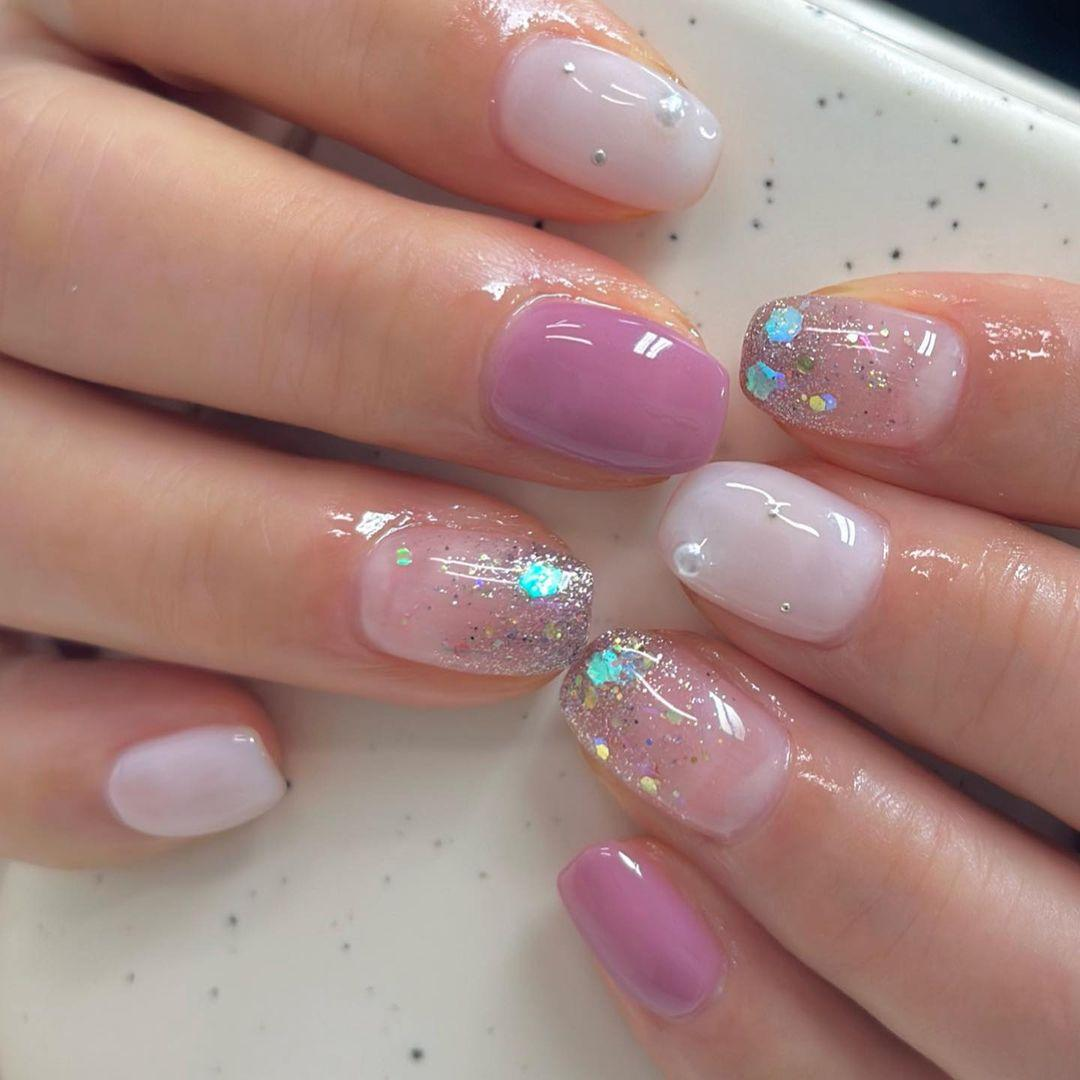nail: (737, 267, 1078, 529), (558, 625, 794, 843), (479, 291, 730, 475), (656, 458, 890, 648), (488, 30, 722, 213), (352, 509, 594, 678), (555, 835, 728, 1020), (103, 721, 288, 839)
